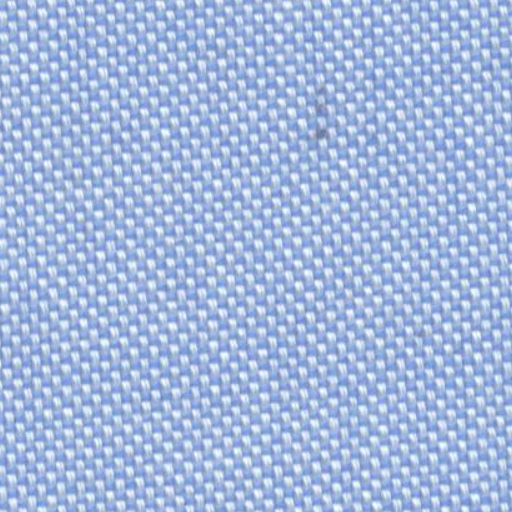WuZi: (304, 83, 345, 146)
